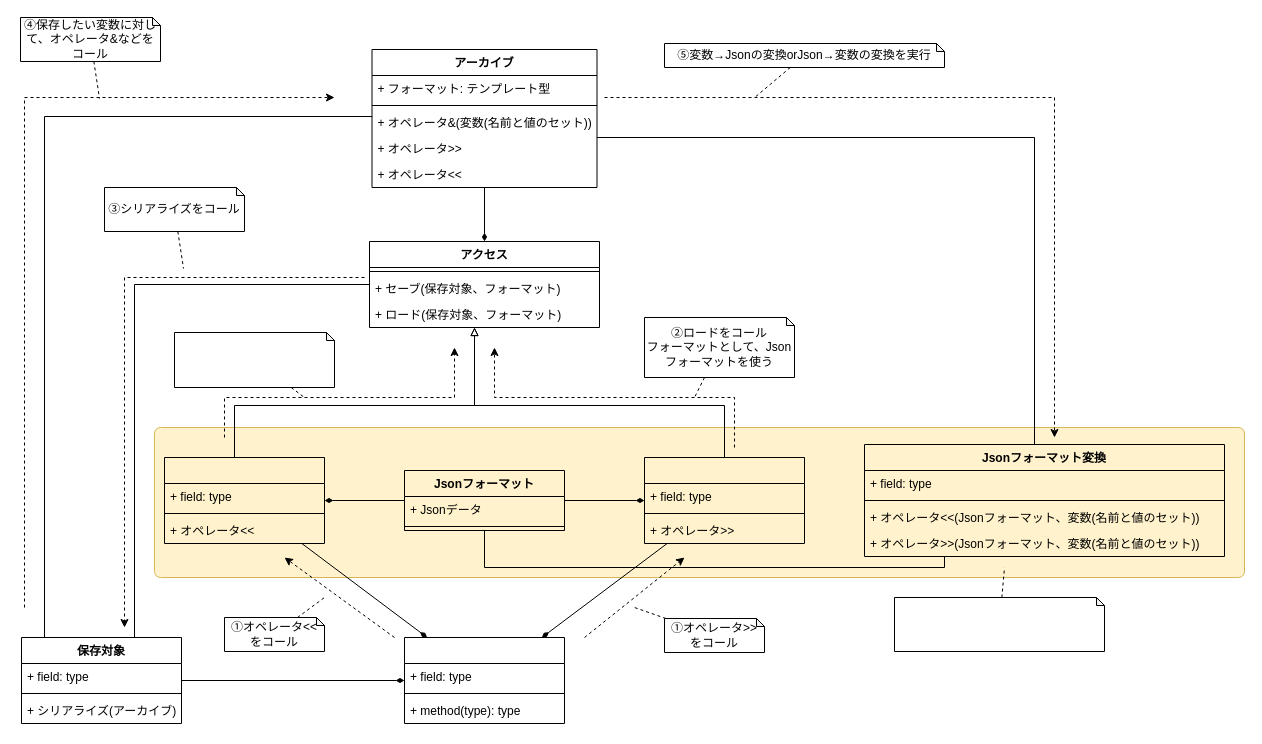
Image size: 1262x744. Some labels were removed from this diagram. Here are the shapes that lost their labels. From the top down, the box of each, then its label:
(174, 332, 334, 388): ②セーブをコール フォーマットとして、Jsonフォーマットを使う
(164, 456, 324, 544): Jsonへの変換アーカイブ
(644, 456, 804, 544): Jsonからの変換アーカイブ
(894, 596, 1104, 652): ⑥渡ってきた変数をJsonに変換して、Jsonフォーマットに格納など
(404, 636, 564, 724): main
